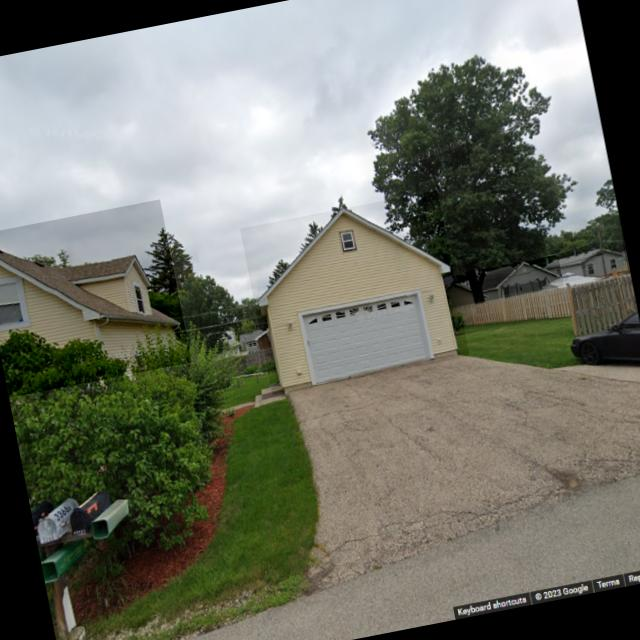House: (240, 190, 470, 394), (0, 199, 191, 398), (443, 255, 564, 309), (542, 240, 630, 290)
